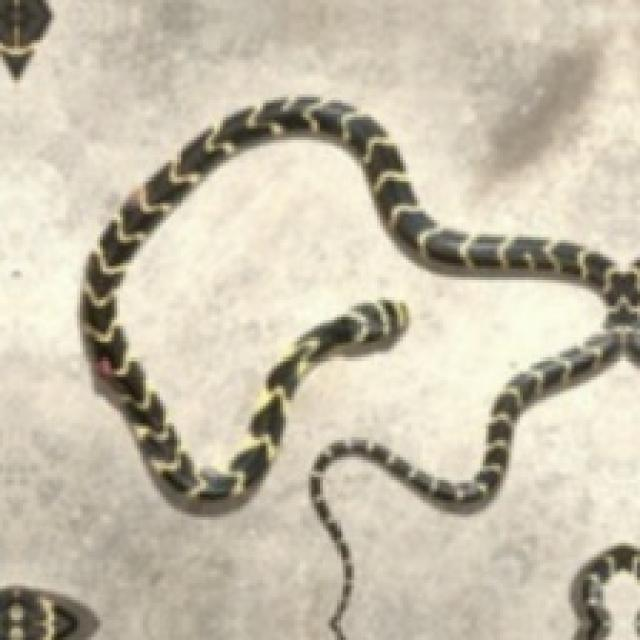king cobra: (80, 97, 637, 637)
